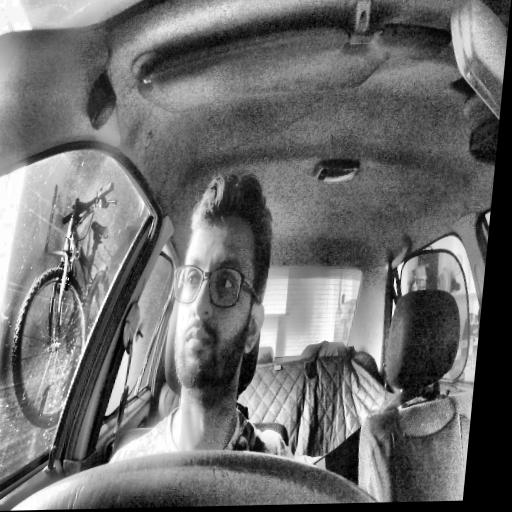awake: (162, 171, 279, 396)
